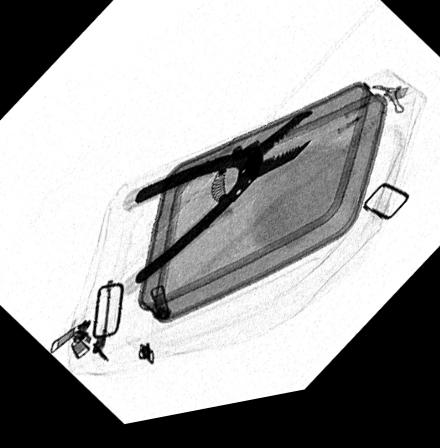Pliers: (131, 121, 311, 294)
